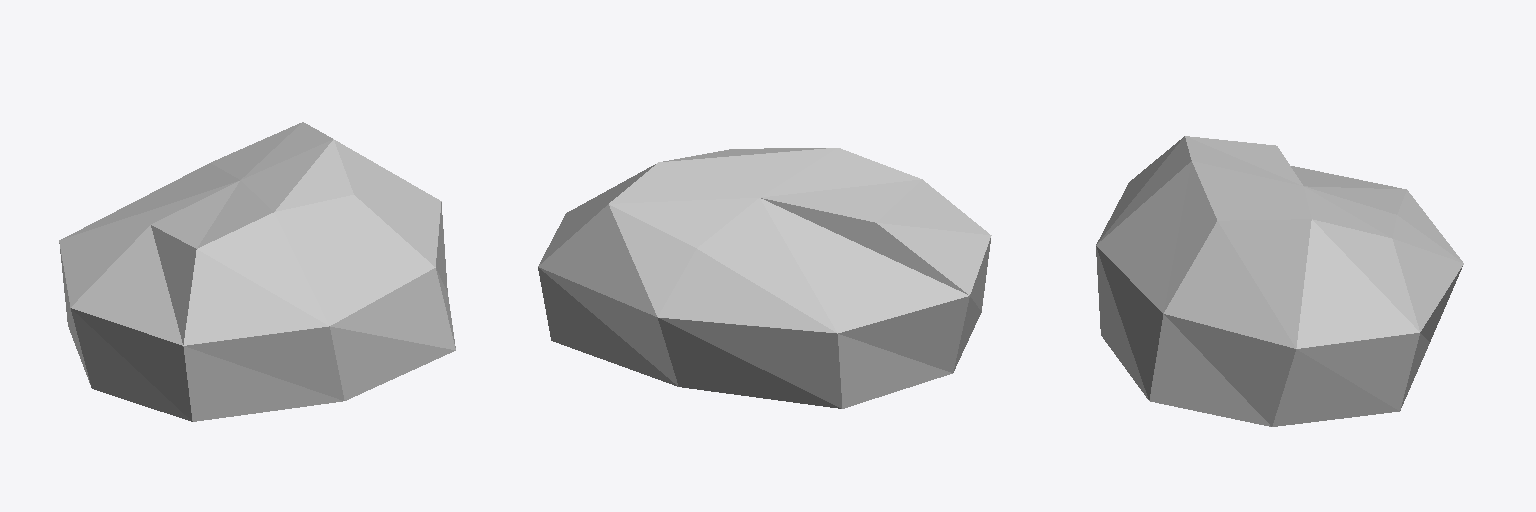
Rendered from rock2.obj.
3 views of the same model, side by side, from view 1: azimuth 30°, elevation 25°; view 2: azimuth 150°, elevation 25°; view 3: azimuth 270°, elevation 25° (orthographic).
Parts seen in each view (by area): view 1: rock_Cube; view 2: rock_Cube; view 3: rock_Cube.
Boxes of the visible parts, <box> form: rock_Cube: <box>59,122,455,421</box>; rock_Cube: <box>538,148,991,408</box>; rock_Cube: <box>1096,136,1463,426</box>.
Bounding box in the file's own units: 3.1 × 1.26 × 2.55.